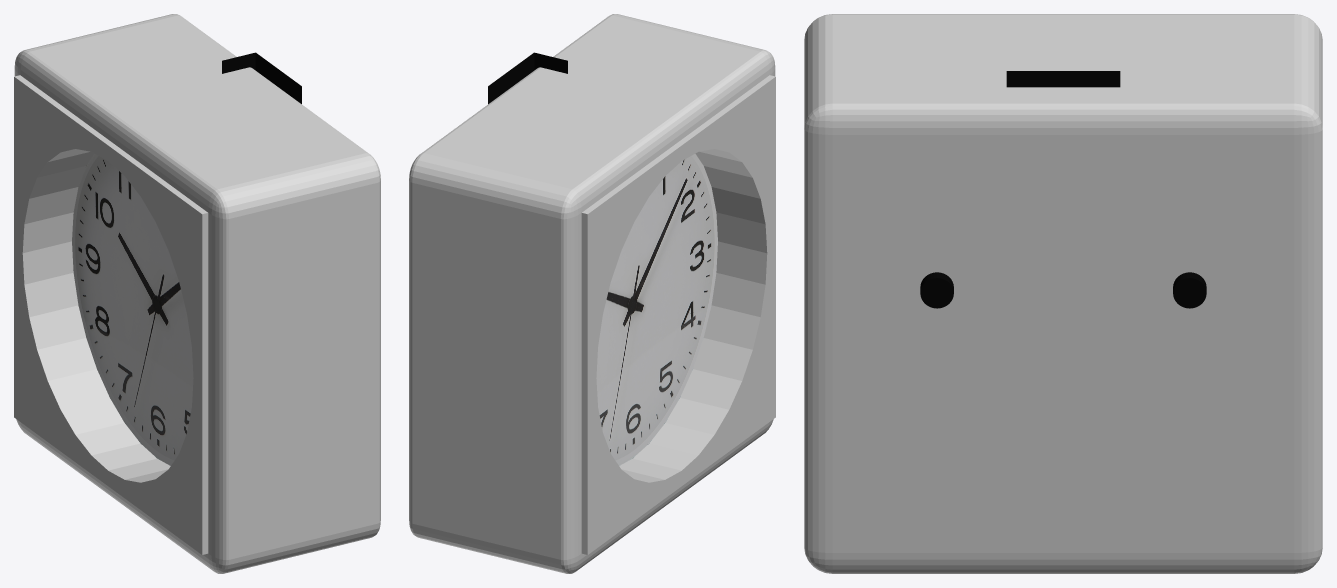
The model's file is clock.fbx.
The picture shows the model from 3 angles, left to right: view 1: azimuth 30°, elevation 25°; view 2: azimuth 150°, elevation 25°; view 3: azimuth 270°, elevation 25°; orthographic projection. The views are drawn at different scales.
Parts seen in each view (by area): view 1: Cube; view 2: Cube; view 3: Cube, 柱体.
Part boxes in pixels (x1,y1,x2,y2): Cube: [14, 14, 380, 573]; Cube: [409, 14, 775, 573]; Cube: [804, 14, 1322, 573]; 柱体: [920, 272, 1206, 308].
Size of the model in its own units: 99.87 by 207 by 200.
